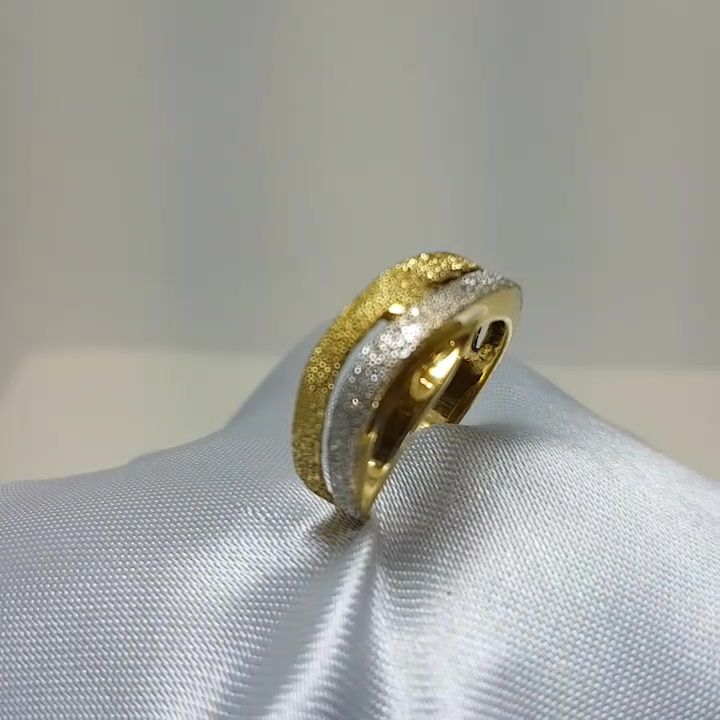Ring 5: (263, 230, 546, 588)
